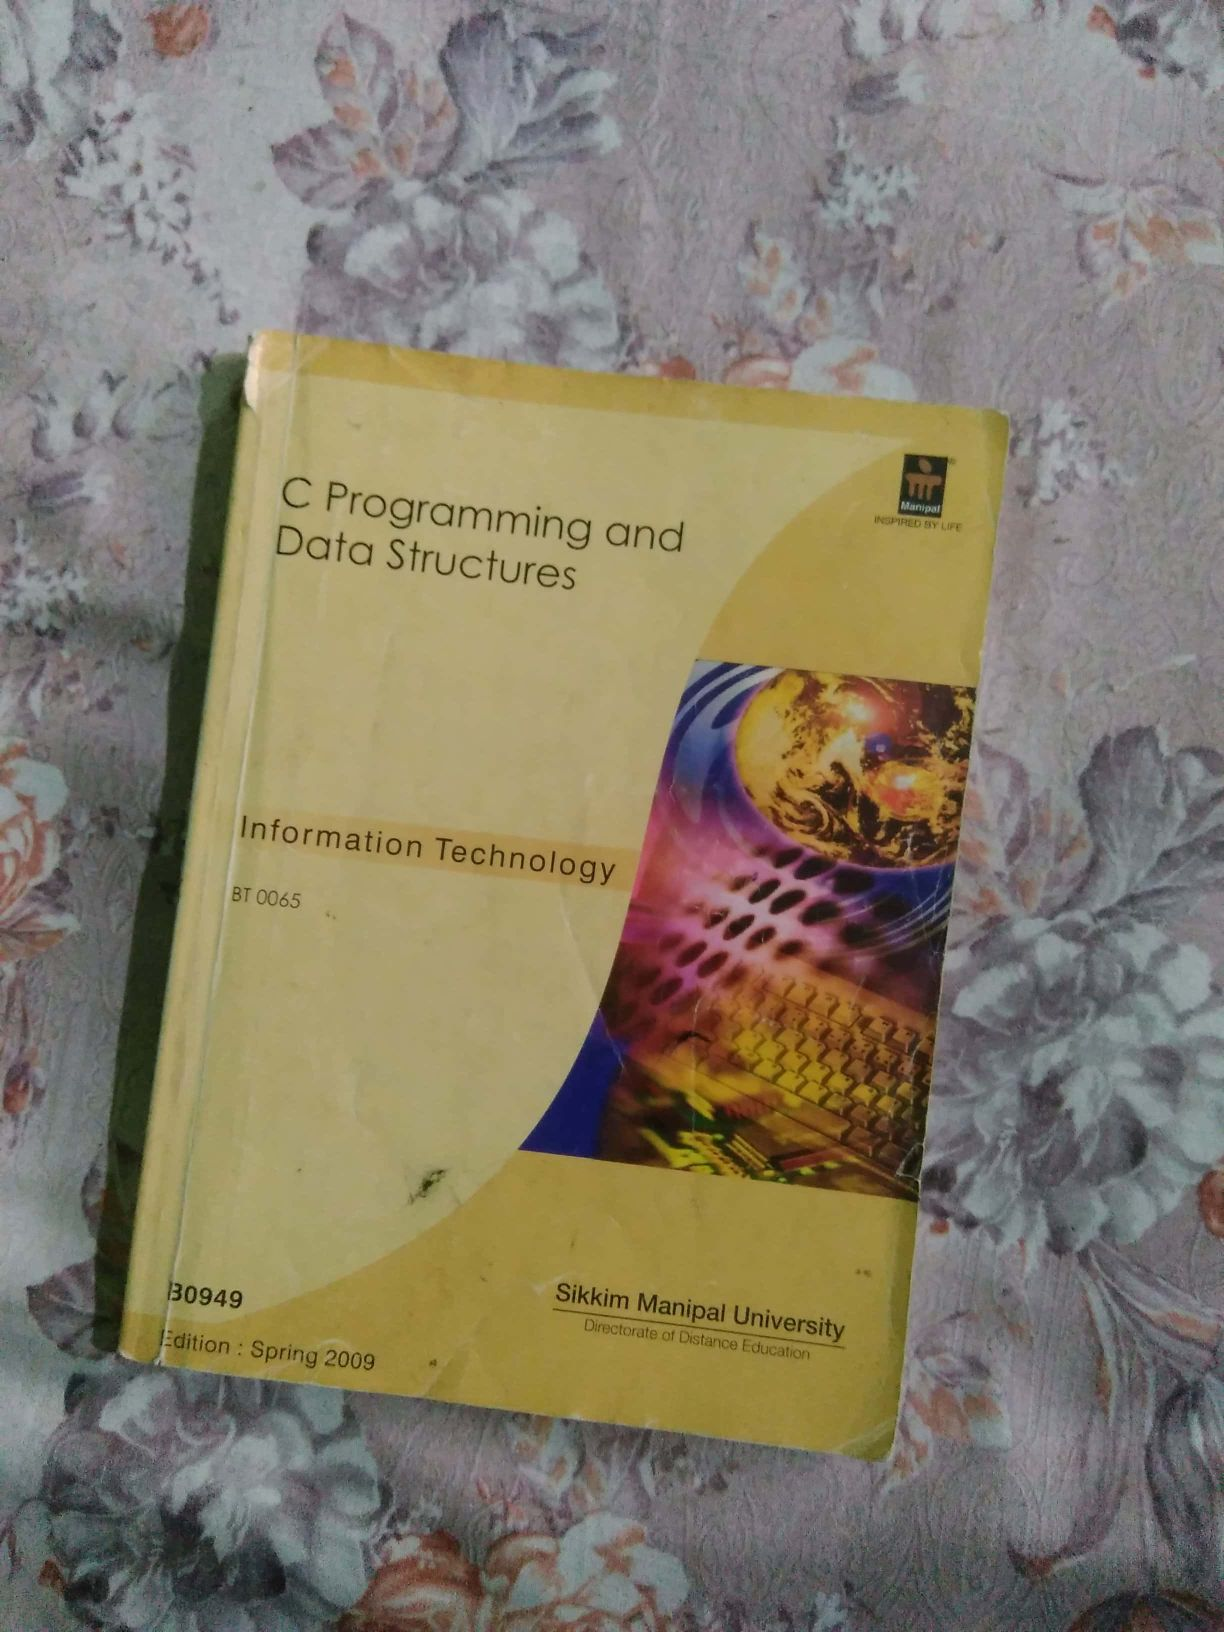clang: (120, 271, 985, 1495)
